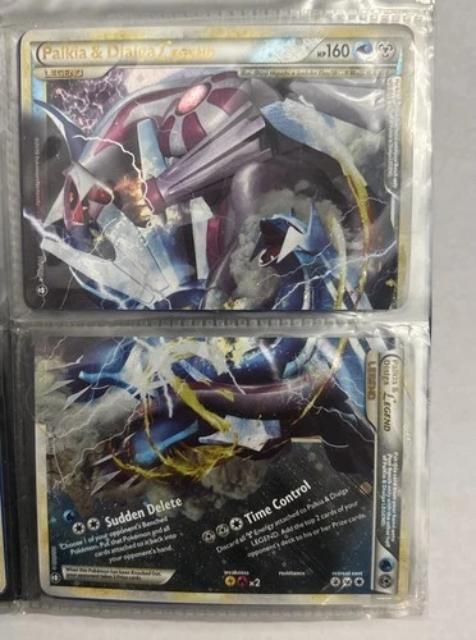Card: (15, 19, 419, 314), (31, 332, 419, 610)
Name: (36, 38, 222, 66), (377, 355, 403, 441)
